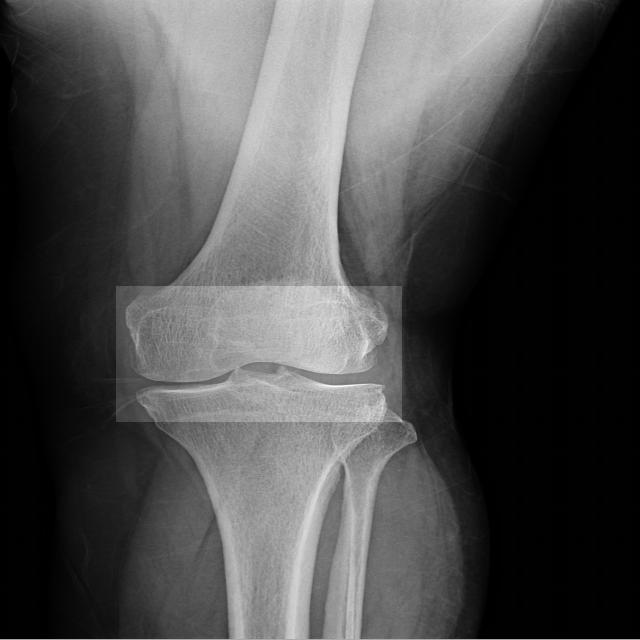normal: (116, 286, 402, 422)
